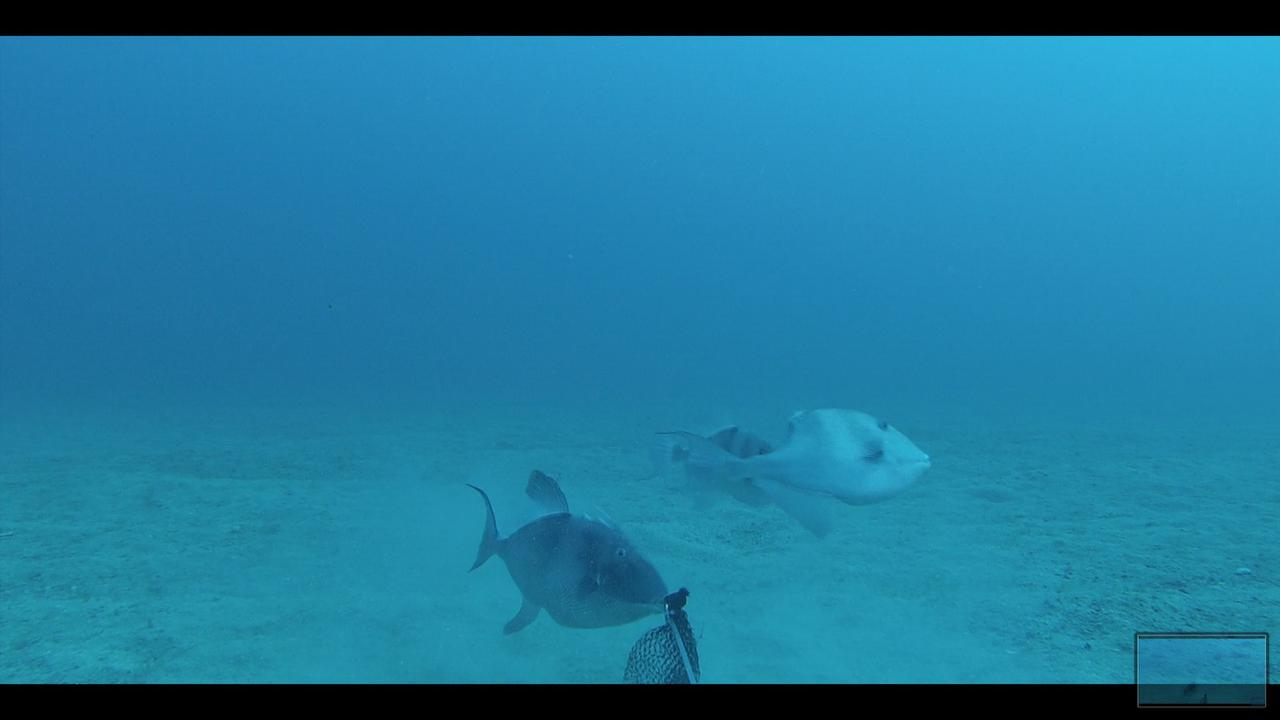balistes: (453, 472, 669, 635), (652, 397, 930, 511), (648, 419, 778, 512)
